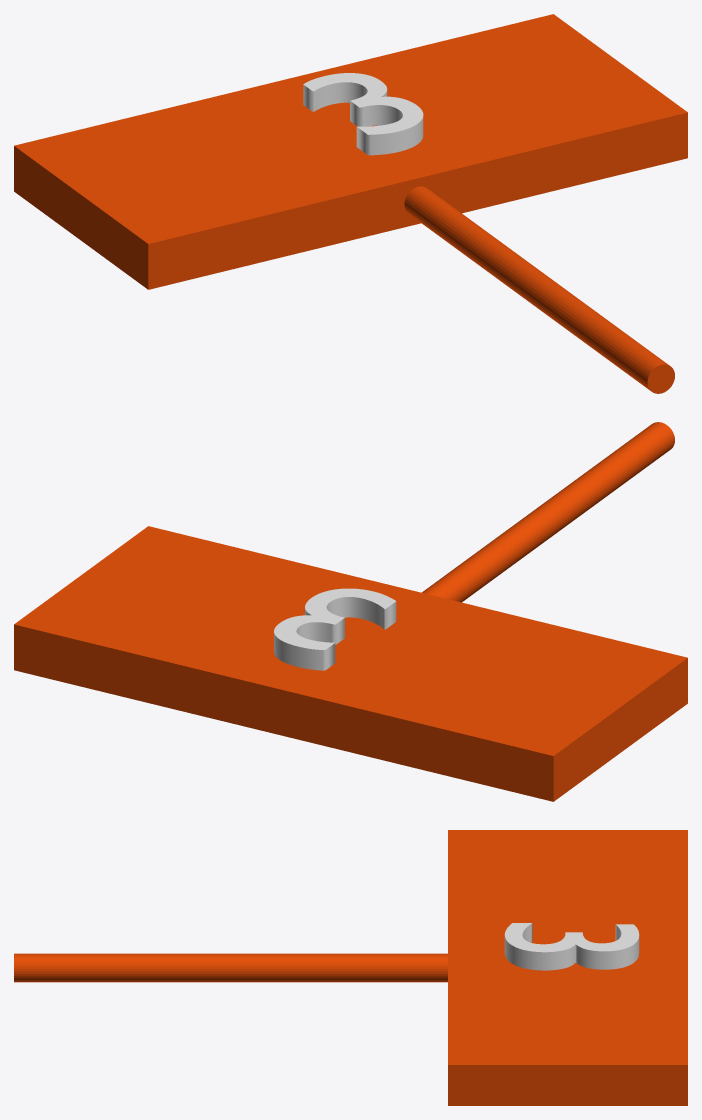
The model's file is 3 табли.fbx.
The picture shows the model from 3 angles, top to bottom: view 1: azimuth 30°, elevation 25°; view 2: azimuth 150°, elevation 25°; view 3: azimuth 270°, elevation 25°; orthographic projection. The views are drawn at different scales.
Visible parts, largest first — view 1: Куб, Цилиндр, Text; view 2: Куб, Цилиндр, Text; view 3: Куб, Цилиндр, Text.
Part boxes in pixels (x1,y1,x2,y2): Куб: (14, 14, 687, 289); Цилиндр: (404, 186, 674, 393); Text: (303, 73, 423, 155); Куб: (14, 526, 687, 801); Цилиндр: (422, 422, 674, 602); Text: (274, 588, 396, 670); Куб: (448, 830, 687, 1105); Цилиндр: (14, 953, 447, 982); Text: (504, 923, 639, 970).
Bounding box in the file's own units: 290 × 34.03 × 351.
